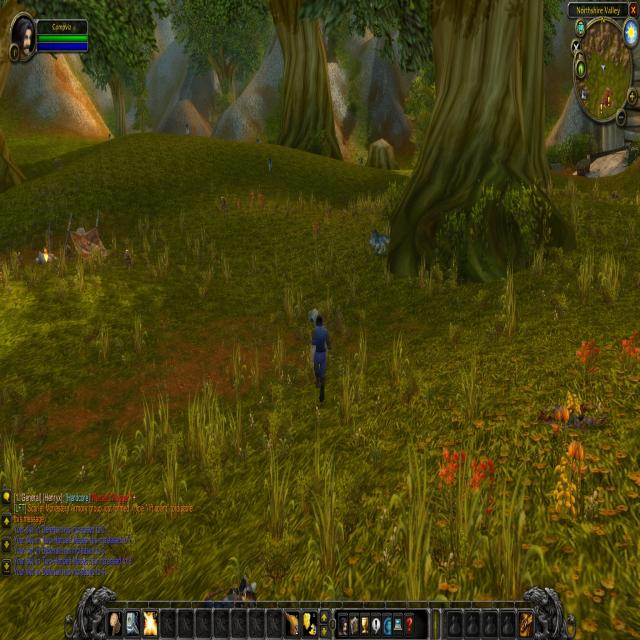wolf: (366, 225, 394, 259), (266, 148, 275, 177), (182, 118, 192, 142), (253, 134, 264, 149), (106, 128, 112, 142)
